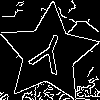Y: (23, 29, 71, 84)
